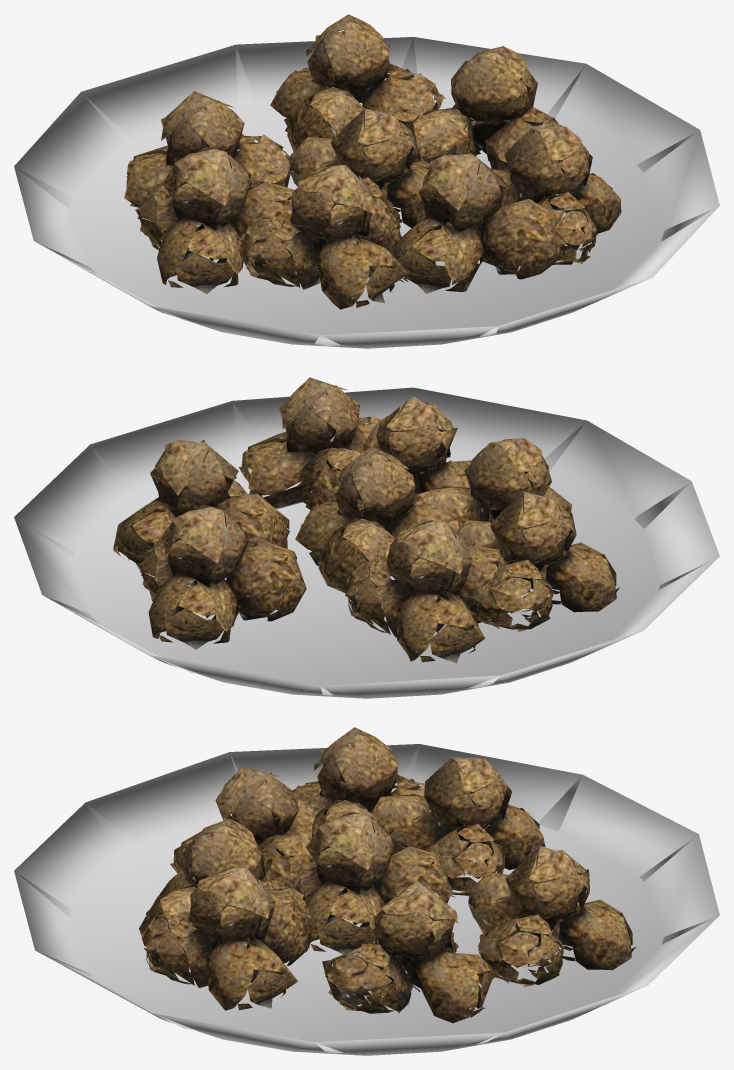
Rendered from falafel-tray.glb.
The picture shows the model from 3 angles, top to bottom: view 1: azimuth 30°, elevation 25°; view 2: azimuth 150°, elevation 25°; view 3: azimuth 270°, elevation 25°; orthographic projection.
Parts seen in each view (by area): view 1: falafel_tray; view 2: falafel_tray; view 3: falafel_tray.
Part boxes in pixels (x1,y1,x2,y2): falafel_tray: (14,14,719,348); falafel_tray: (14,377,719,698); falafel_tray: (14,727,719,1055).
Size of the model in its own units: 0.4033 by 0.0754 by 0.4033.
1 material, 1 textured.
